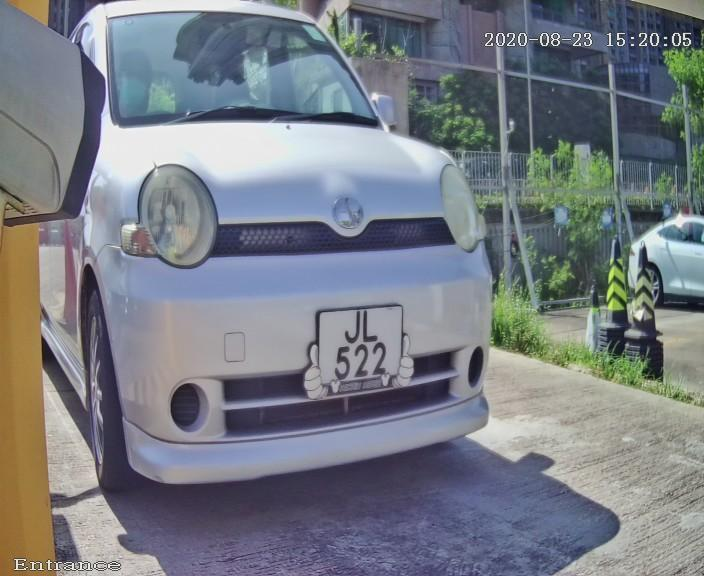Car: (16, 1, 538, 548)
License Plate: (302, 291, 419, 407)
